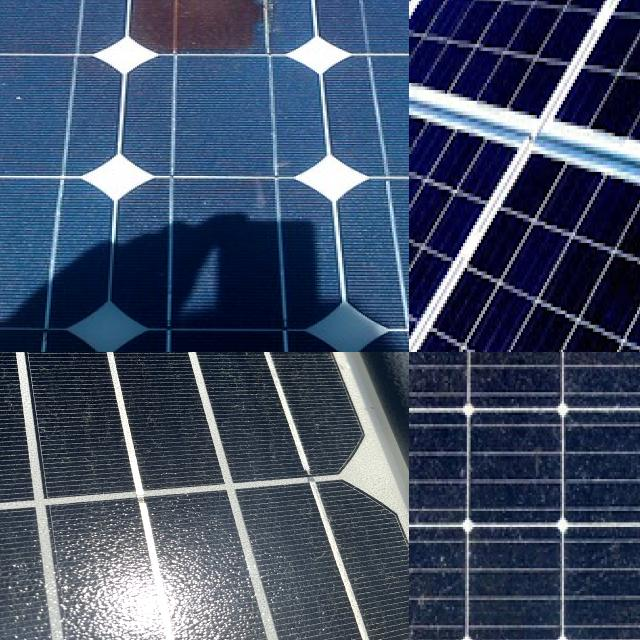crack: (0, 352, 409, 640), (409, 10, 612, 352), (409, 0, 640, 241), (409, 121, 627, 352), (409, 151, 640, 352), (556, 0, 640, 293)
dust: (409, 352, 559, 640), (562, 352, 640, 630), (476, 352, 565, 404), (409, 352, 467, 428)
shadow: (108, 0, 305, 100)
